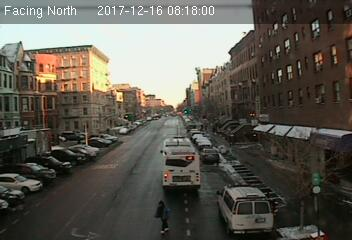bus: (161, 136, 200, 193)
car: (201, 149, 220, 162)
police: (214, 182, 275, 236)
